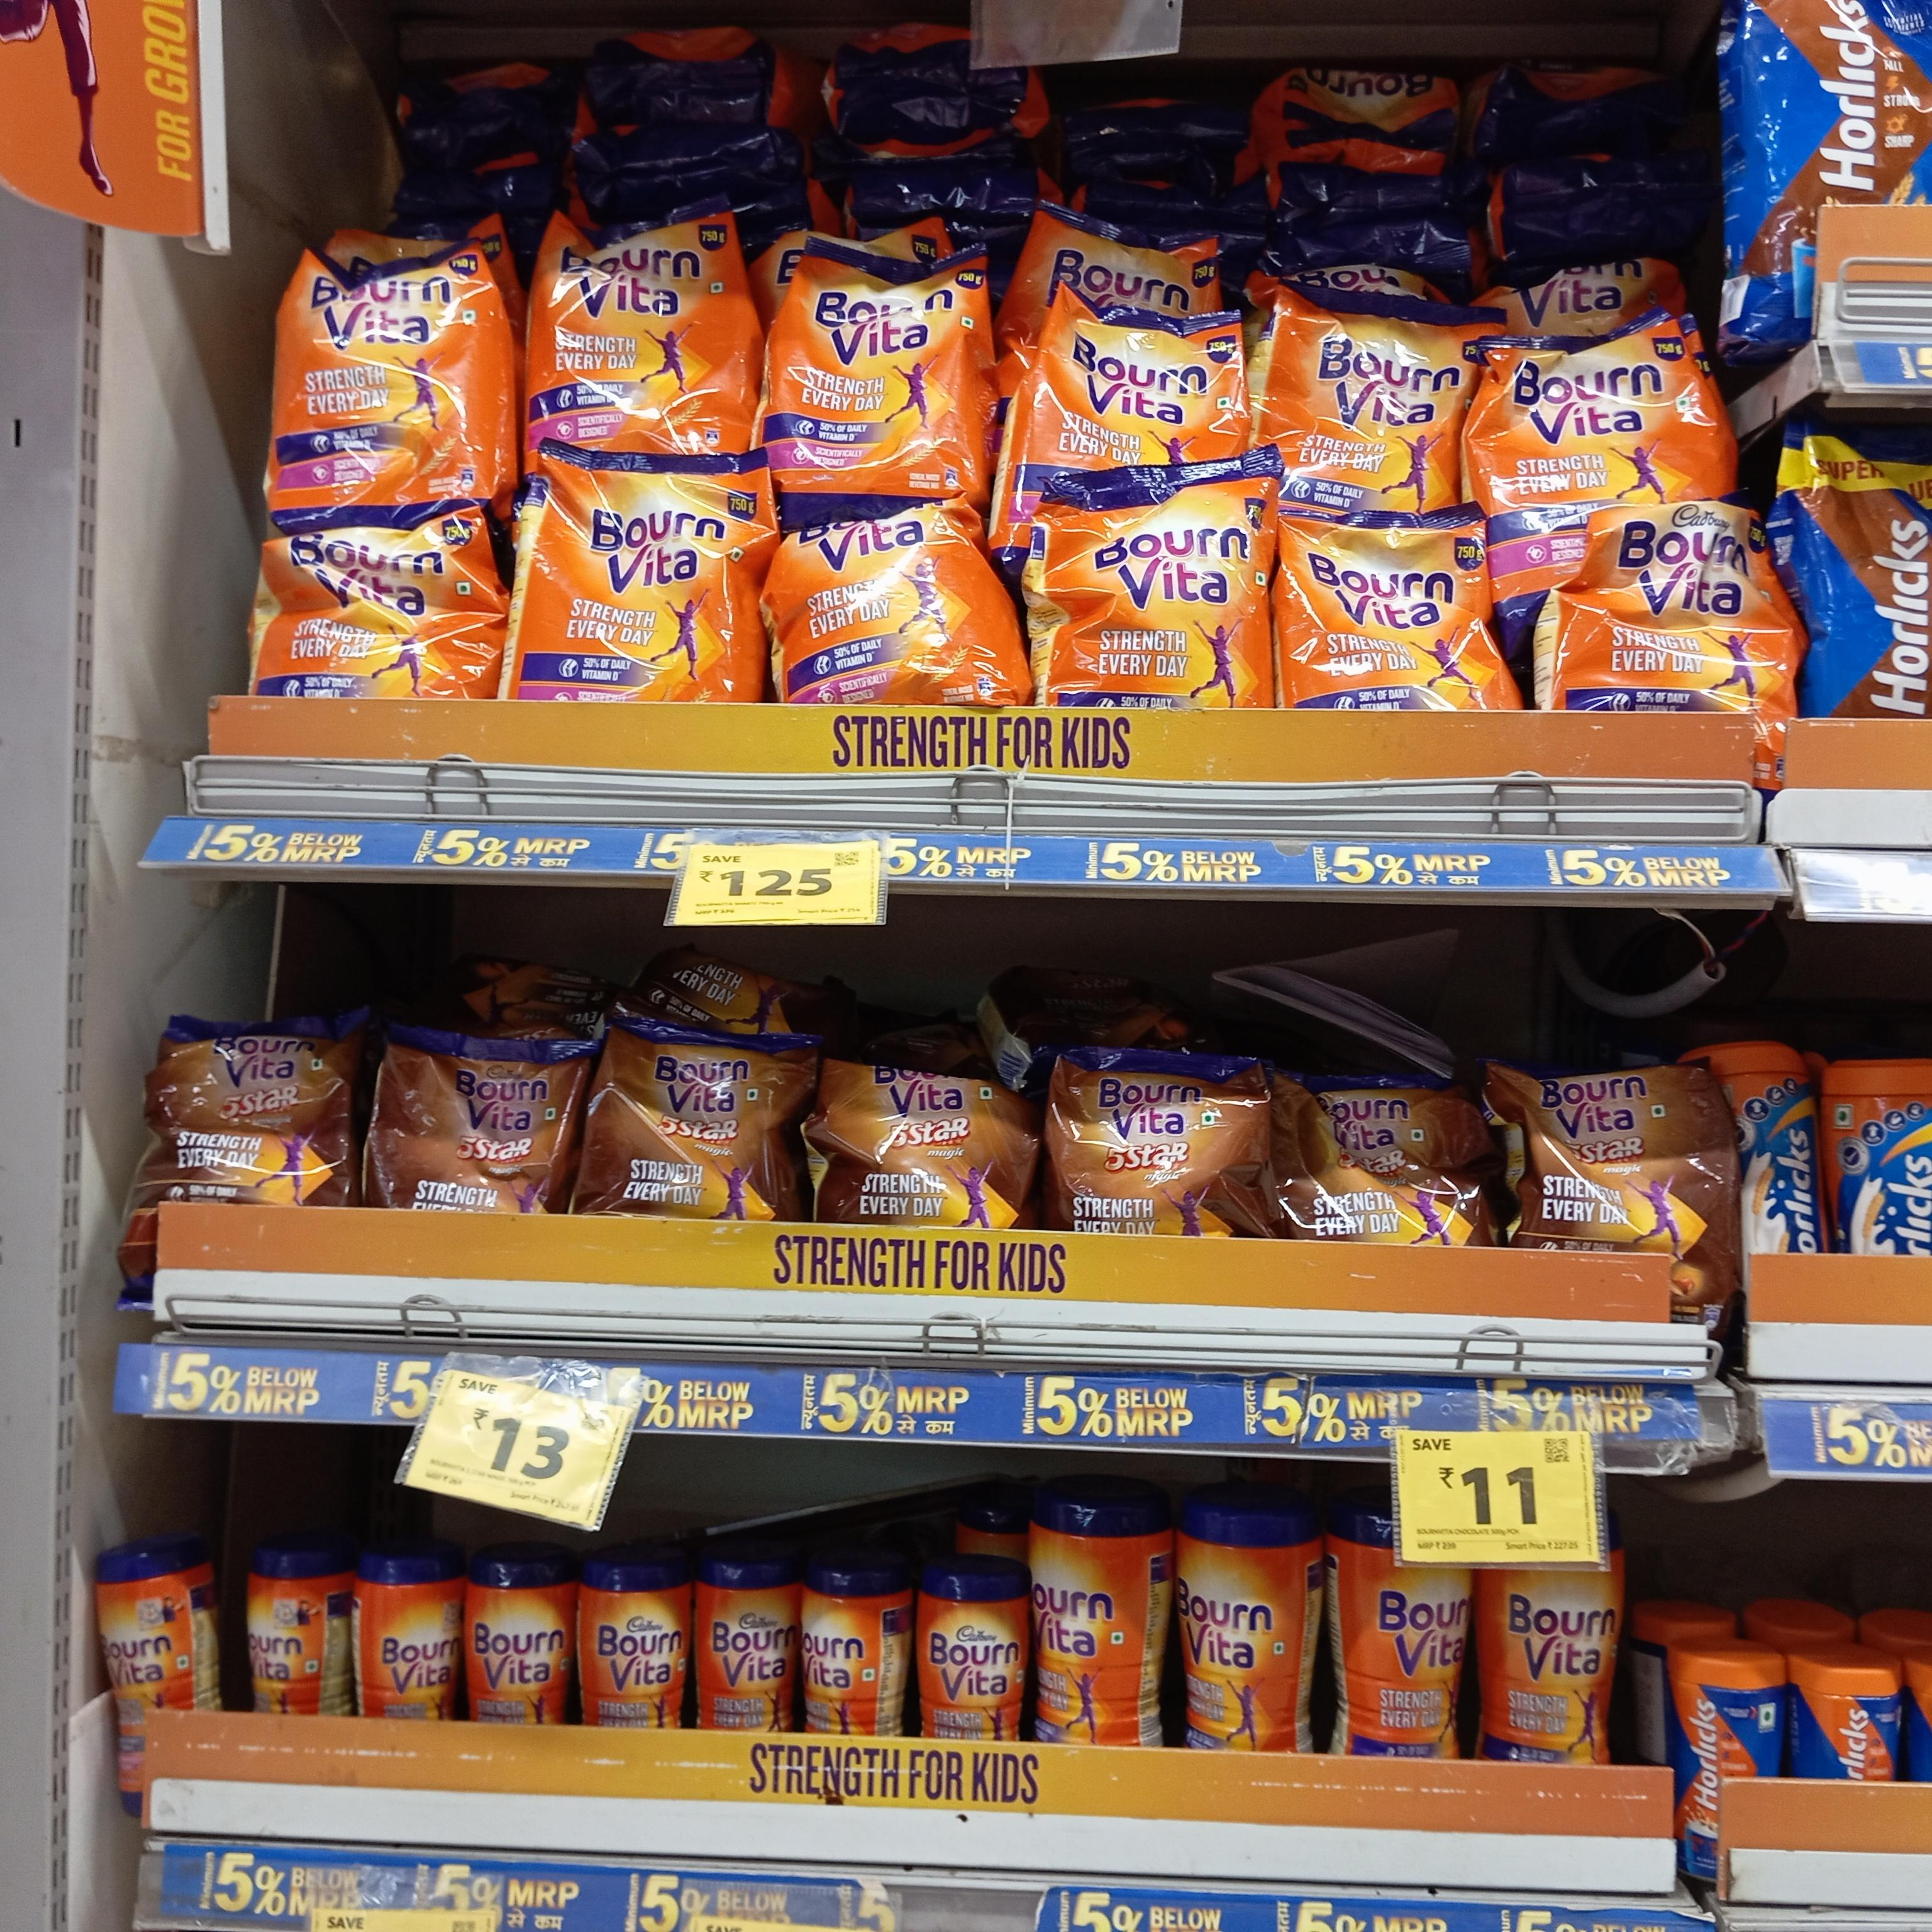BOURN_VITA_200_G_JAR: (575, 1557, 685, 1727), (97, 1543, 189, 1739), (922, 1566, 1021, 1739), (465, 1553, 566, 1723), (354, 1550, 456, 1716), (701, 1562, 789, 1732), (241, 1543, 320, 1730), (798, 1564, 872, 1737)
BOURN_VITA_500_G_JAR: (1177, 1522, 1299, 1767), (1035, 1488, 1141, 1760), (1345, 1536, 1467, 1766), (1499, 1562, 1617, 1767)
BOURN_VITA_750_G_POUCH: (533, 444, 755, 706), (280, 253, 499, 501), (768, 239, 975, 488), (1051, 471, 1263, 704), (533, 218, 741, 455), (1583, 499, 1783, 724), (1286, 501, 1495, 709), (1270, 292, 1474, 502), (269, 508, 483, 701), (1497, 311, 1713, 502), (796, 508, 1000, 704), (1037, 299, 1238, 464)
BOURN_VITA_FIVE_STAR_MAGIC_500_G_POUCH: (1518, 1060, 1725, 1260), (598, 1024, 796, 1224), (150, 1007, 343, 1207), (1054, 1047, 1246, 1240), (826, 1054, 1010, 1228), (1281, 1070, 1468, 1240), (375, 1033, 552, 1212)
